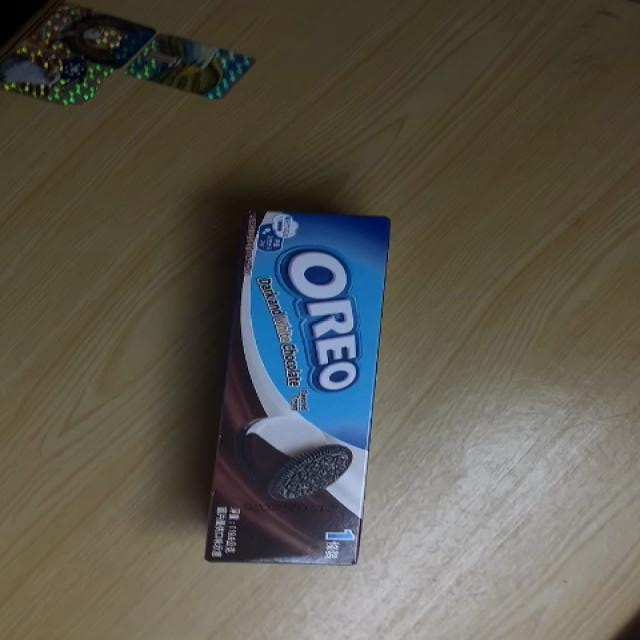Oreo: (198, 205, 392, 567)
